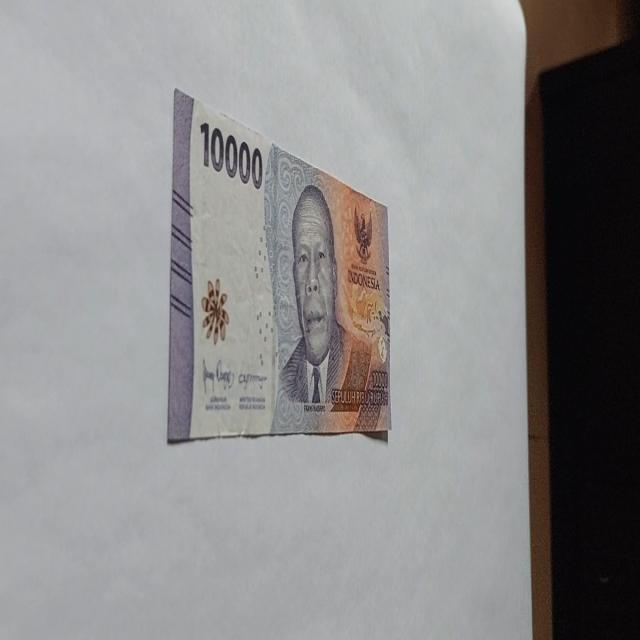sepuluh ribu rupiah: (166, 86, 392, 444), (270, 180, 376, 433)
